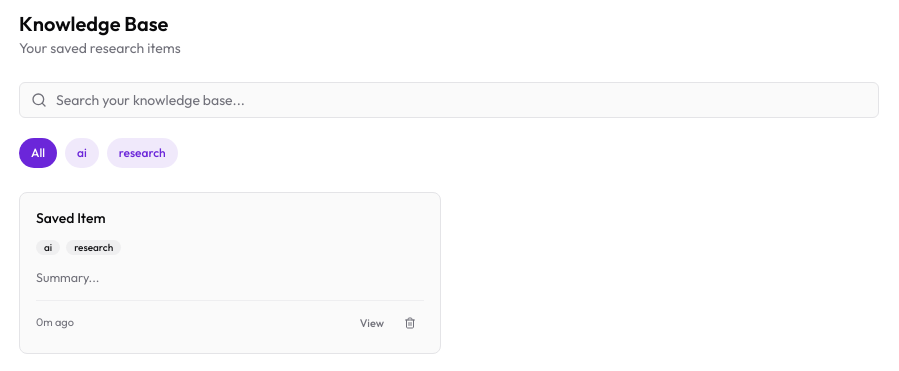
Test: KnowledgeBase page › shows no results when search returns empty
The image size is (899, 371).
Expected: the heading "Saved Item" is shown, top-left (36, 209), bottom-right (106, 227)
Type "nonexistent" into the field with placeholder "Search your knowledge base...". click: (449, 100)
box: top-left (19, 82), bottom-right (879, 118)
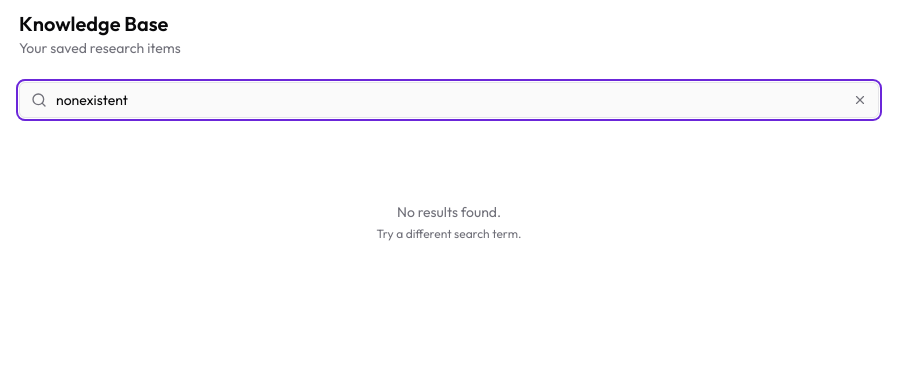
Now the text "No results found." is shown, box top-left (397, 202), bottom-right (501, 222)
